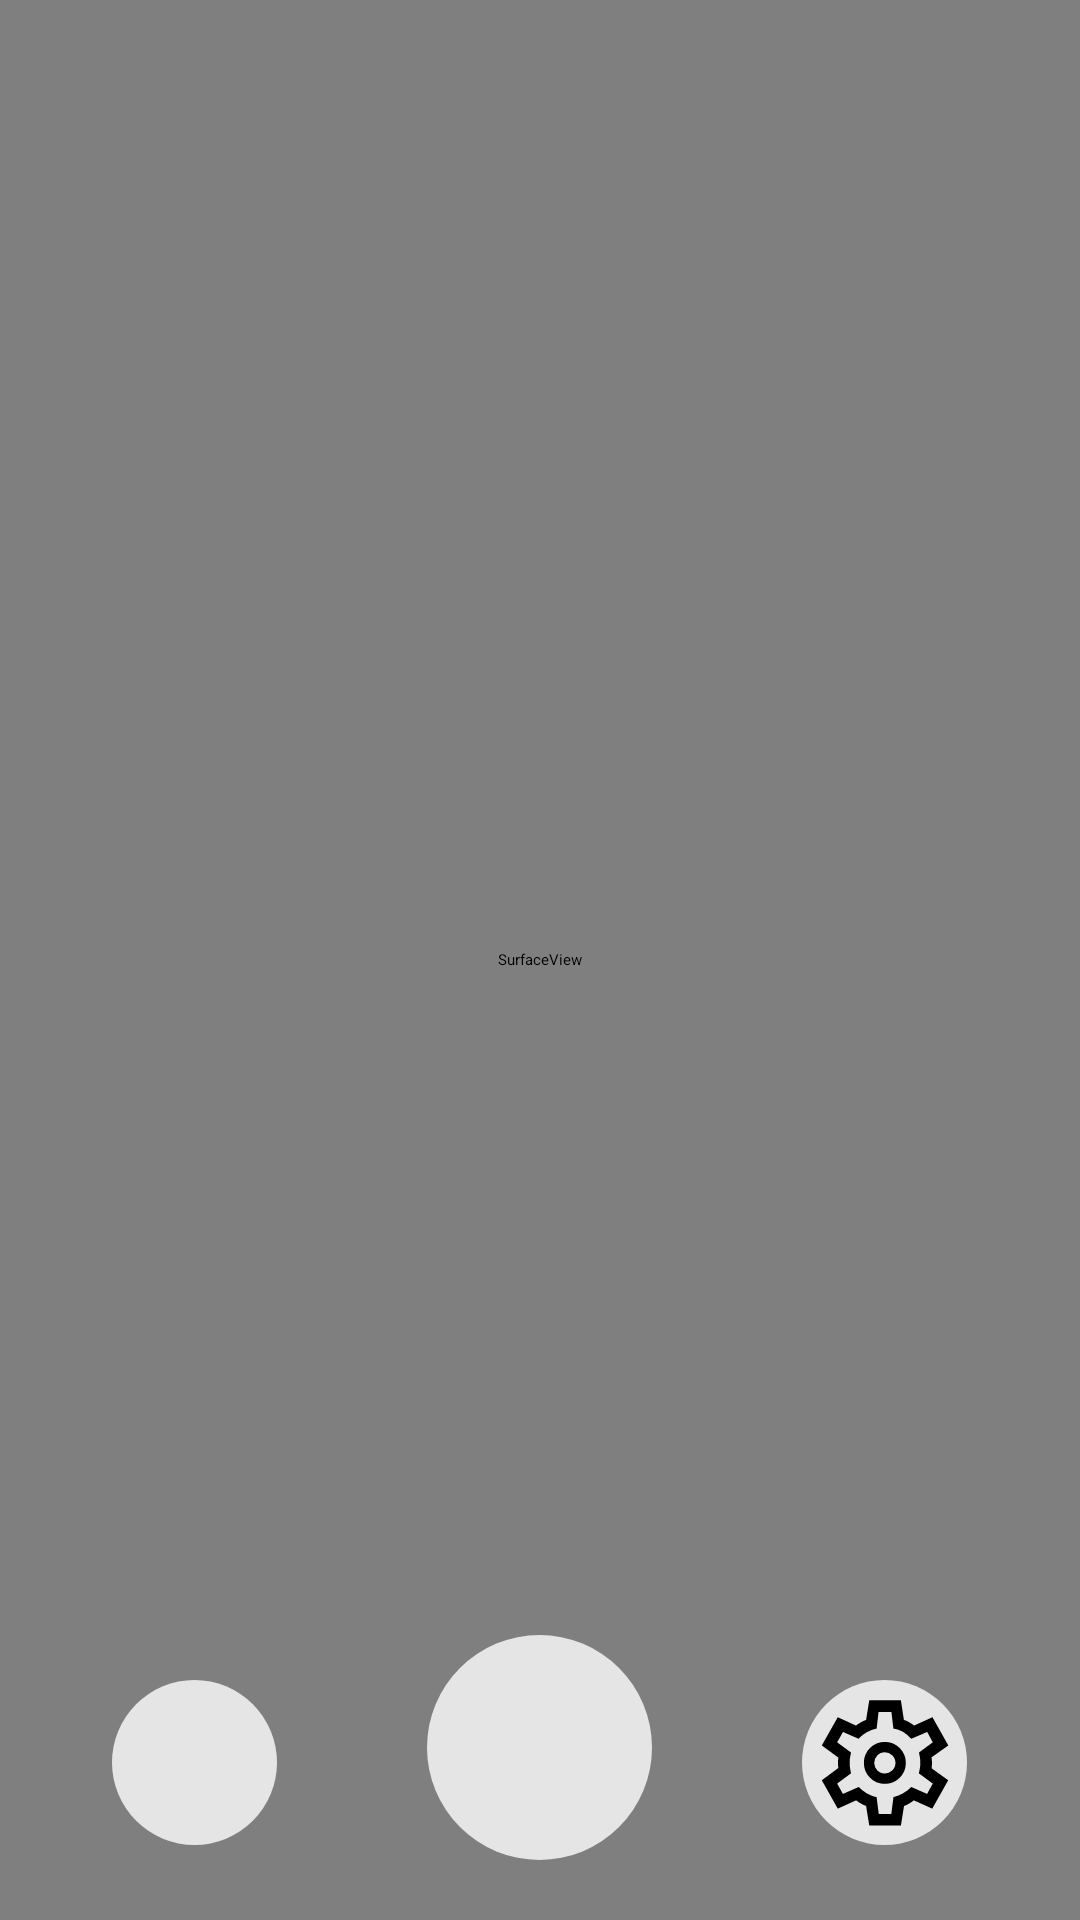

Screen size 1080 × 1920. Icon name, then its box in pixels as (x1, y1, x2, y2):
settings: (802, 1680, 967, 1845)
